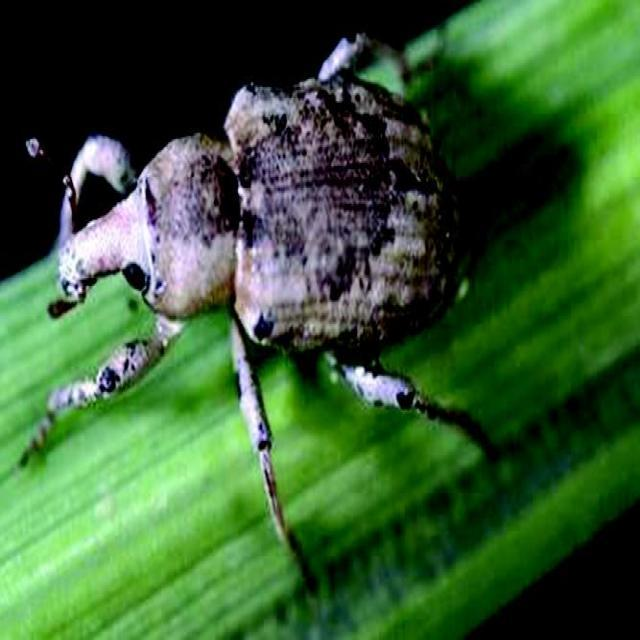ricebug: (26, 35, 486, 547)
